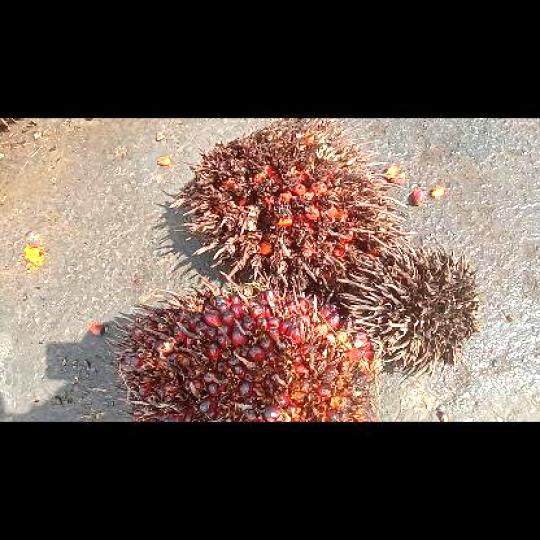masak: (106, 271, 382, 420)
terlalu masak: (169, 118, 407, 290)
